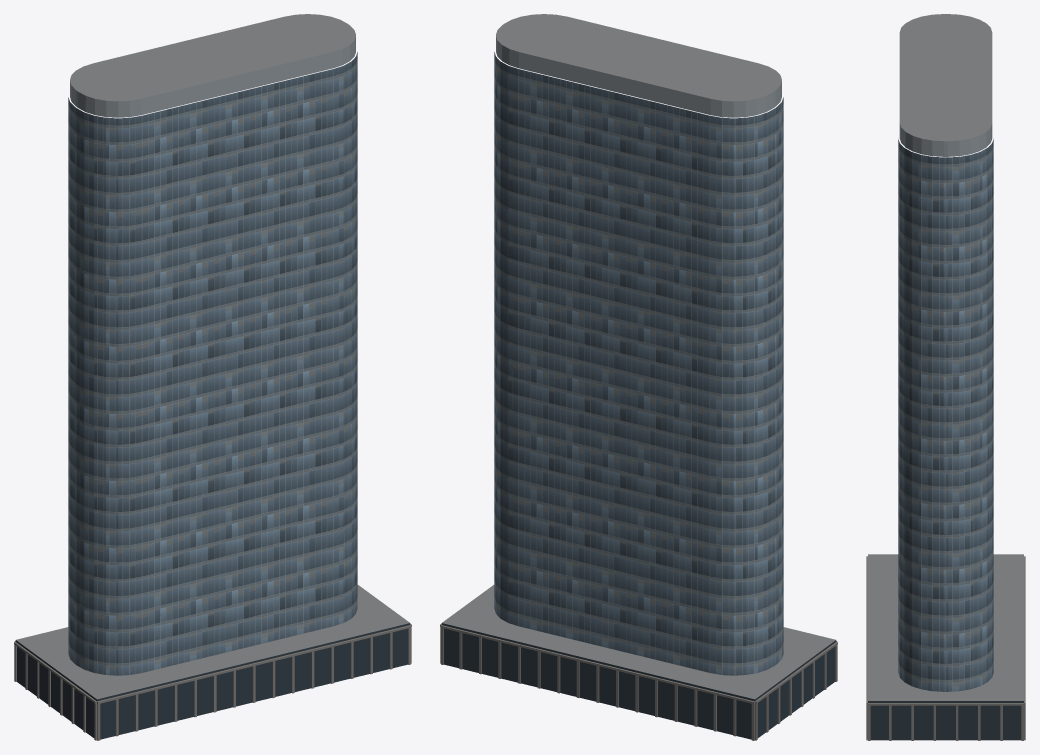
File: hyatt_regency.glb
3 views of the same model, side by side, from view 1: azimuth 30°, elevation 25°; view 2: azimuth 150°, elevation 25°; view 3: azimuth 270°, elevation 25° (orthographic). The views are drawn at different scales.
Parts seen in each view (by area): view 1: hyatt_regency; view 2: hyatt_regency; view 3: hyatt_regency.
Boxes of the visible parts, box(x1,y1,x2,y2) form: hyatt_regency: box(14, 14, 411, 740); hyatt_regency: box(440, 14, 837, 740); hyatt_regency: box(866, 14, 1025, 740).
Size of the model in its own units: 80.8 by 150 by 36.81.
Materials: 2 (2 with a texture image).
